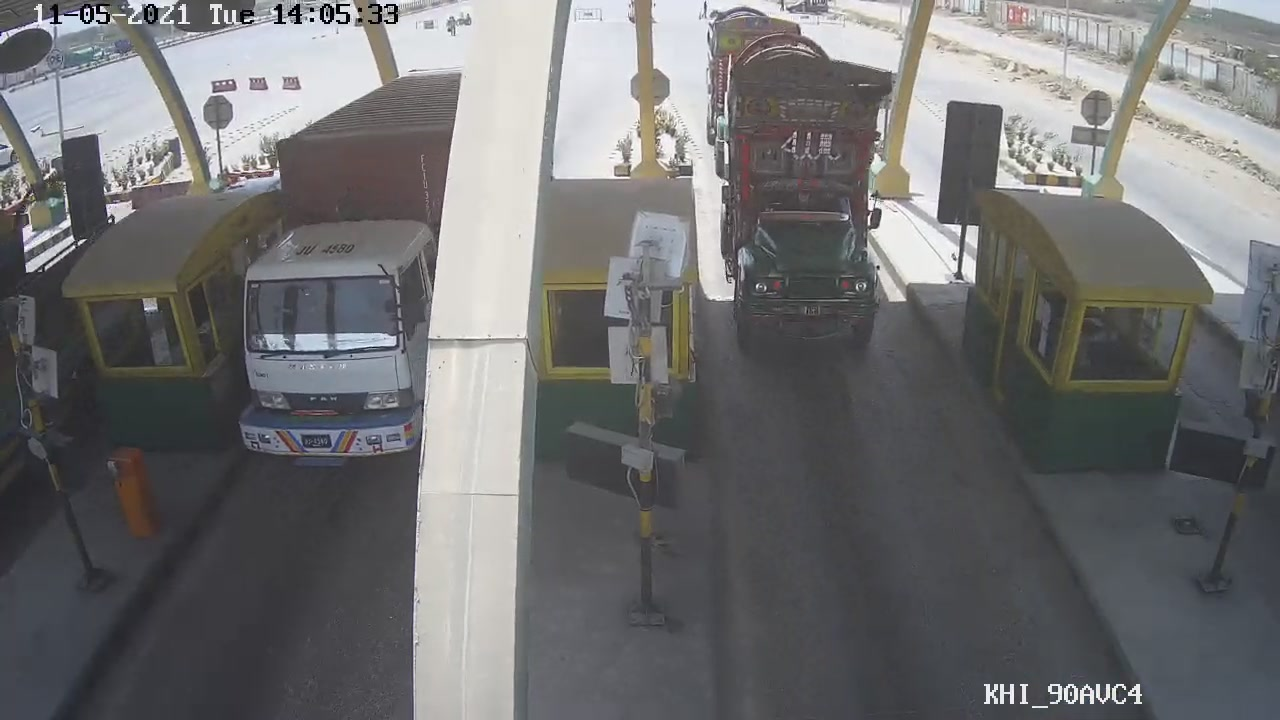F5: (706, 42, 912, 356)
